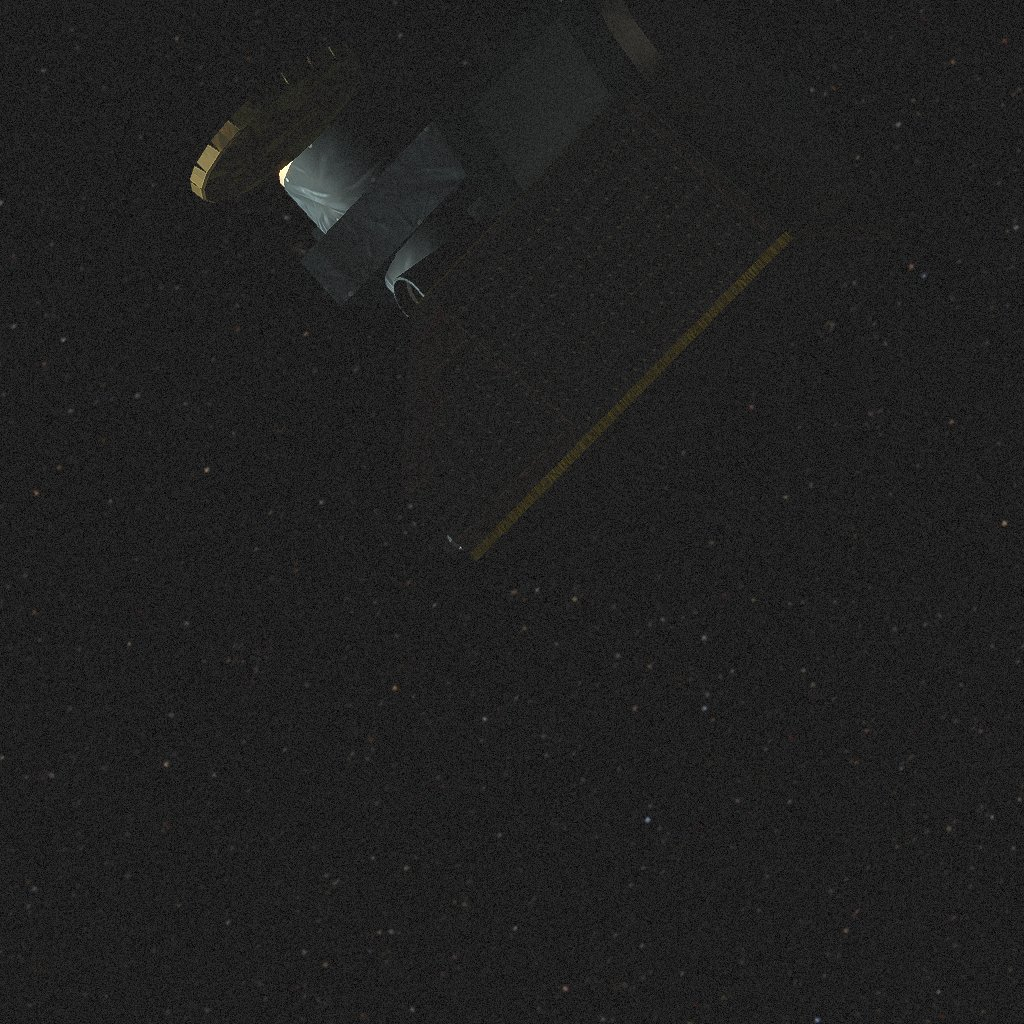cheops: (190, 0, 897, 561)
